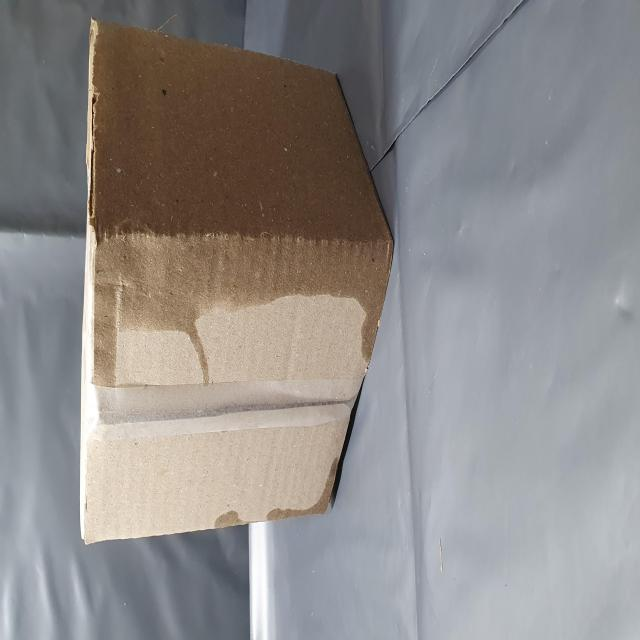wet: (136, 152, 342, 640)
